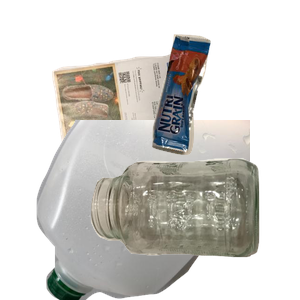glass: (88, 156, 300, 300)
paper: (49, 51, 235, 212)
plastic: (34, 120, 274, 300)
trash: (149, 31, 300, 179)
